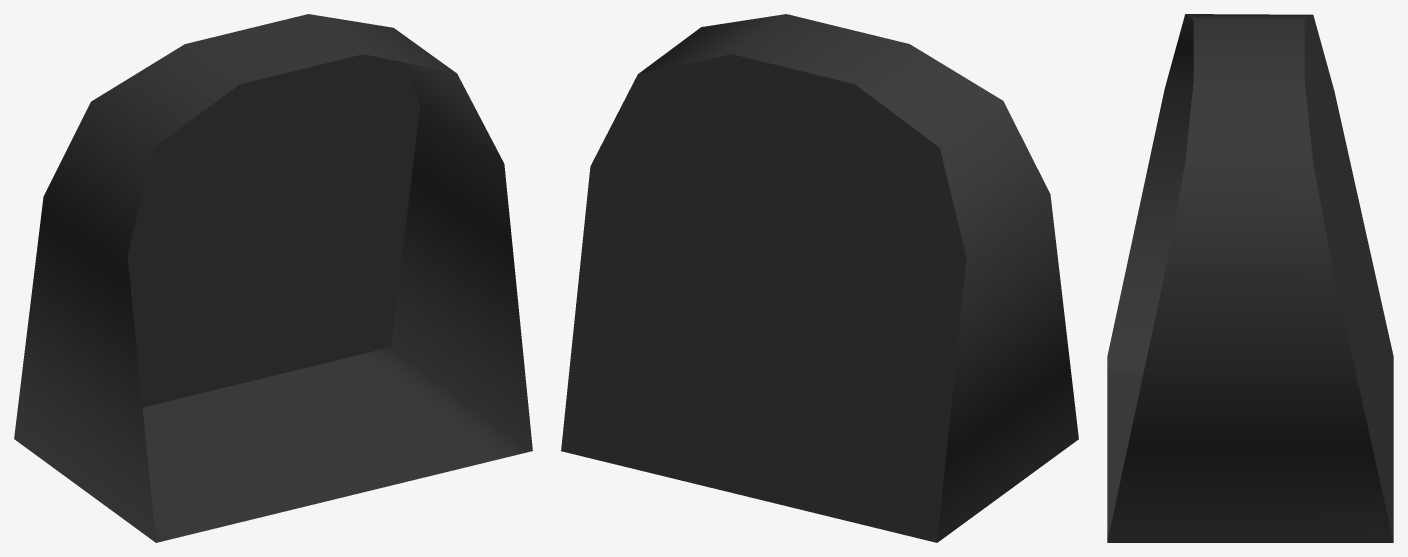
File: WhiteBoard_Stand_Base.fbx
The picture shows the model from 3 angles, left to right: view 1: azimuth 30°, elevation 25°; view 2: azimuth 150°, elevation 25°; view 3: azimuth 270°, elevation 25°; orthographic projection.
Visible parts, largest first — view 1: WhiteBoard_Stand_Base; view 2: WhiteBoard_Stand_Base; view 3: WhiteBoard_Stand_Base.
Boxes of the visible parts, x1,y1,x2,y2 form: WhiteBoard_Stand_Base: [14, 14, 532, 542]; WhiteBoard_Stand_Base: [561, 14, 1078, 542]; WhiteBoard_Stand_Base: [1107, 14, 1393, 542].
Size of the model in its own units: 9.95 by 10 by 6.49.
